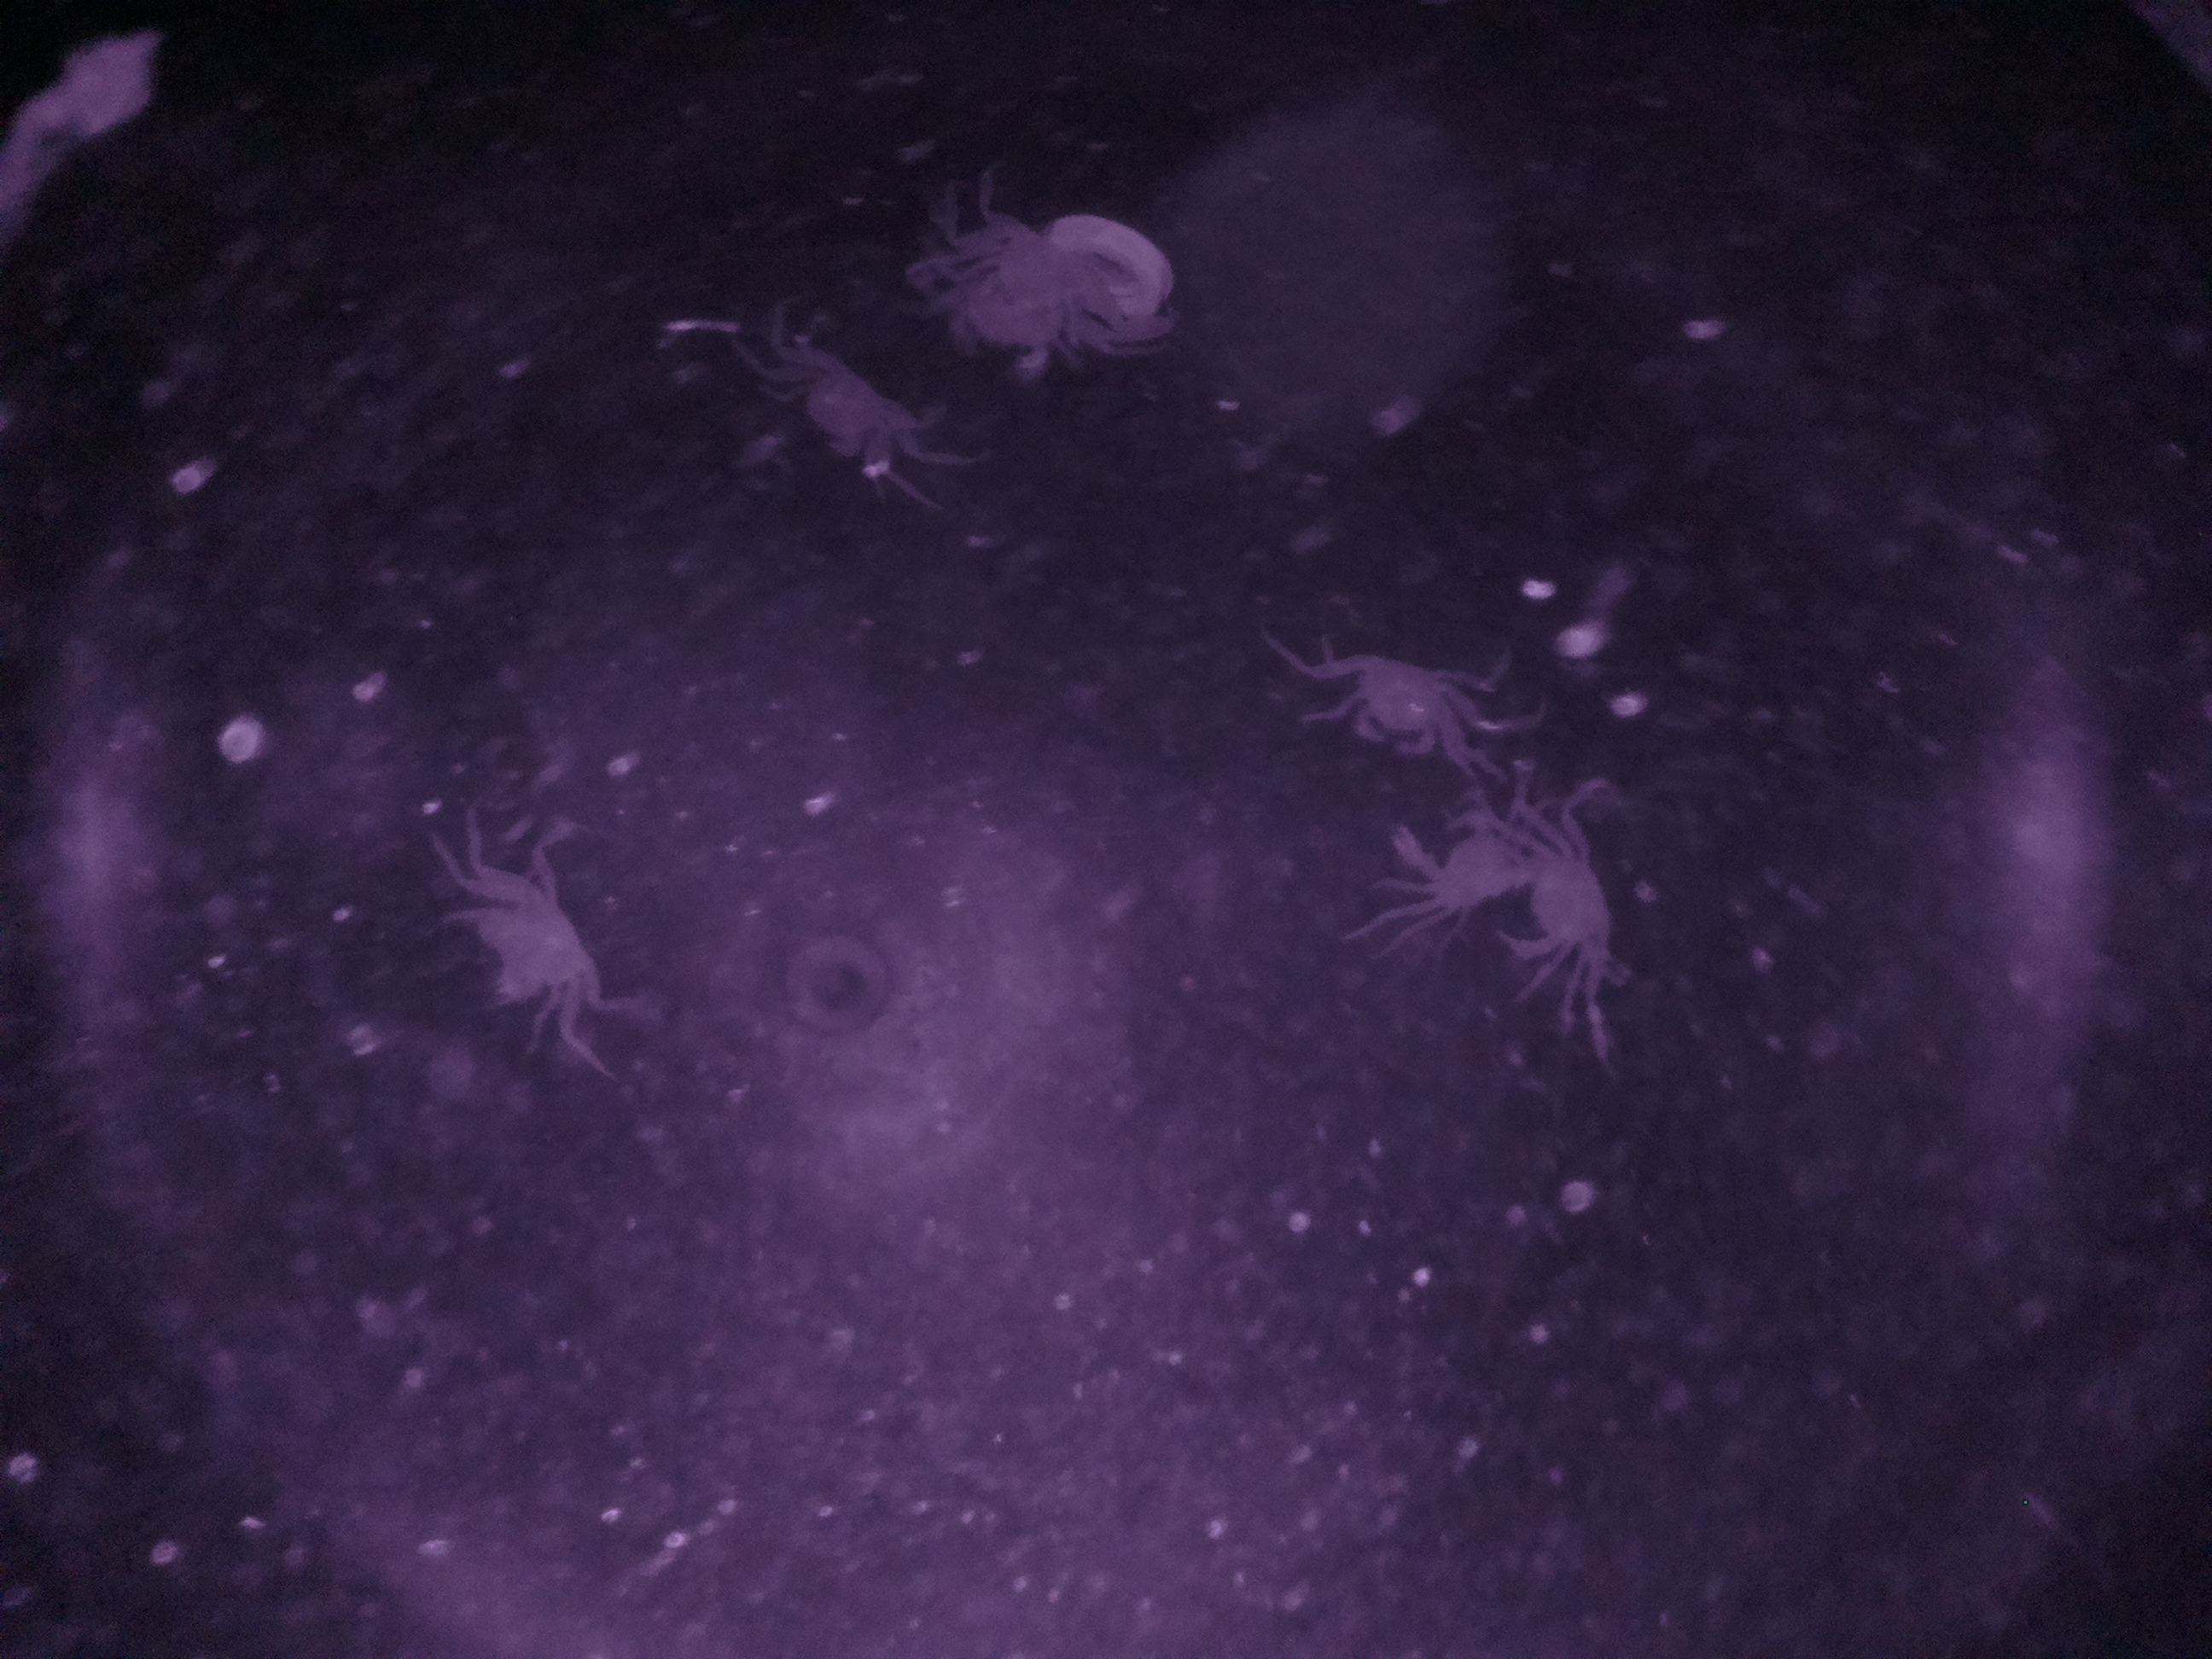Crab: (451, 840, 629, 1016), (1503, 807, 1629, 986), (1320, 627, 1487, 762)
